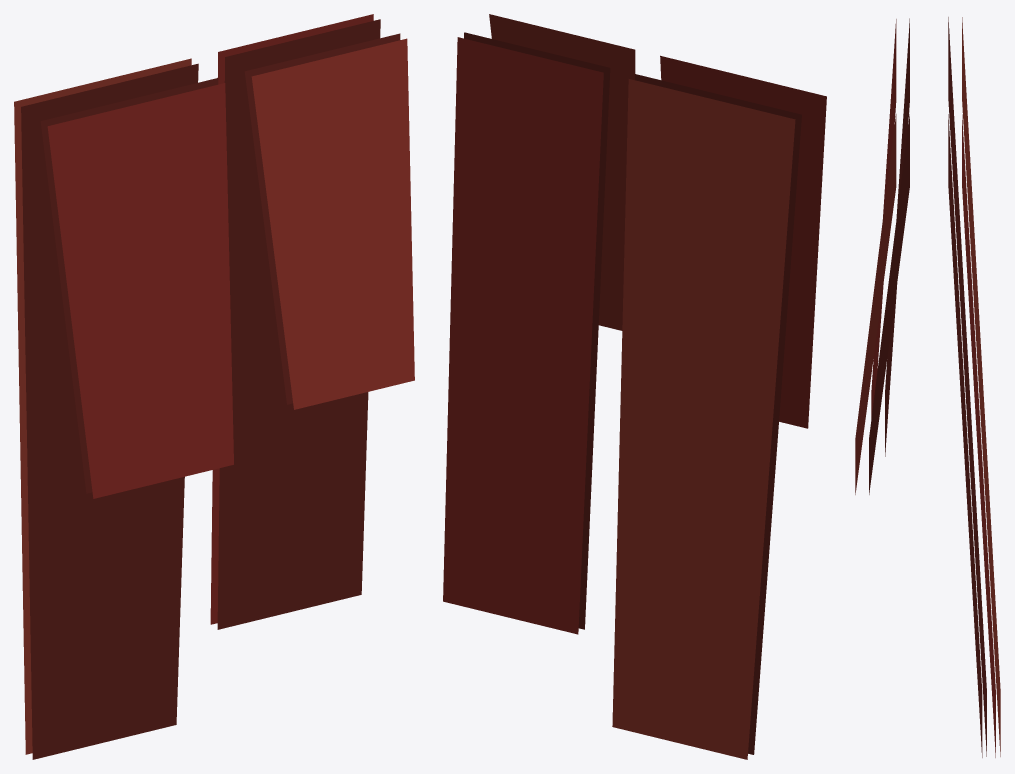
File: drying_rack_carne_2.glb
The picture shows the model from 3 angles, left to right: view 1: azimuth 30°, elevation 25°; view 2: azimuth 150°, elevation 25°; view 3: azimuth 270°, elevation 25°; orthographic projection. The views are drawn at different scales.
Parts seen in each view (by area): view 1: drying_rack_carne_2; view 2: drying_rack_carne_2; view 3: drying_rack_carne_2.
Part boxes in pixels (x1,y1,x2,y2): drying_rack_carne_2: (14,14,414,759); drying_rack_carne_2: (443,14,826,759); drying_rack_carne_2: (855,17,1000,757).
Size of the model in its own units: 0.744 by 1.33 by 0.2657.
